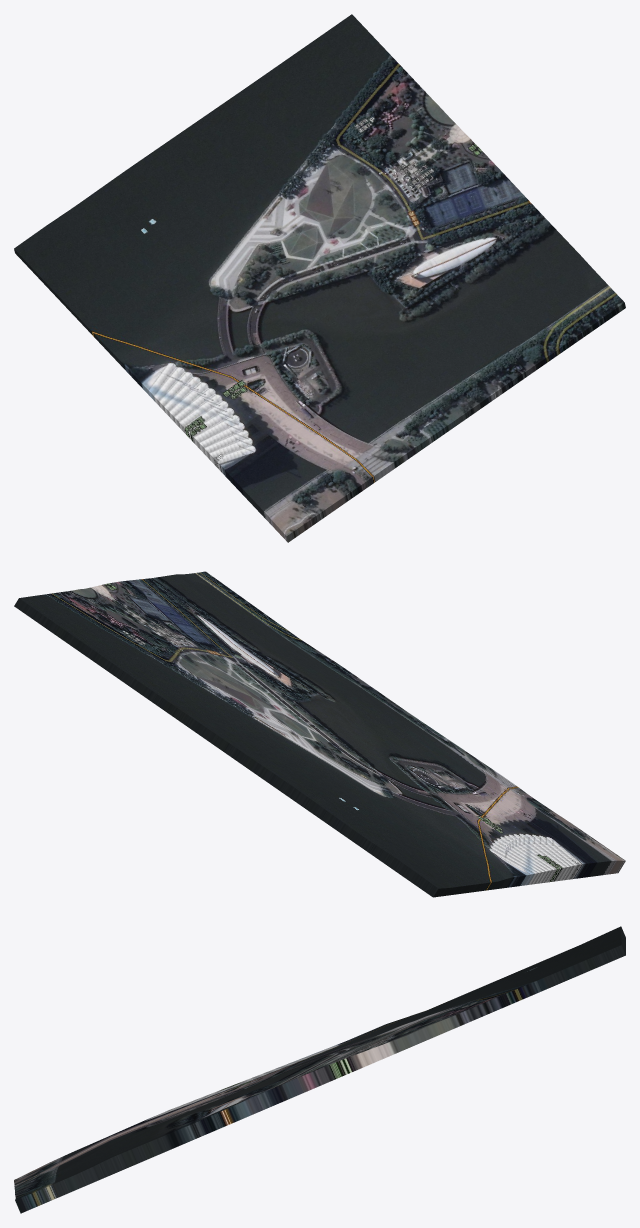
3 views of the same model, one above another, from view 1: azimuth 30°, elevation 25°; view 2: azimuth 150°, elevation 25°; view 3: azimuth 270°, elevation 25° (orthographic). The views are drawn at different scales.
Parts seen in each view (by area): view 1: 0_12_21; view 2: 0_12_21; view 3: 0_12_21.
Part boxes in pixels (box(x1,y1,x2,y2)): 0_12_21: box(14, 14, 625, 542); 0_12_21: box(14, 571, 625, 897); 0_12_21: box(14, 926, 625, 1213).
Bounding box in the file's own units: 596 × 437 × 548.
Materials: 1 (1 with a texture image).
